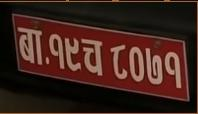0: (128, 43, 146, 83)
1: (163, 50, 185, 91), (47, 31, 66, 71)
7: (145, 47, 164, 86)
8: (109, 42, 129, 82)
9: (64, 34, 82, 72)
ba: (15, 25, 45, 66)
cha: (81, 36, 107, 77)
